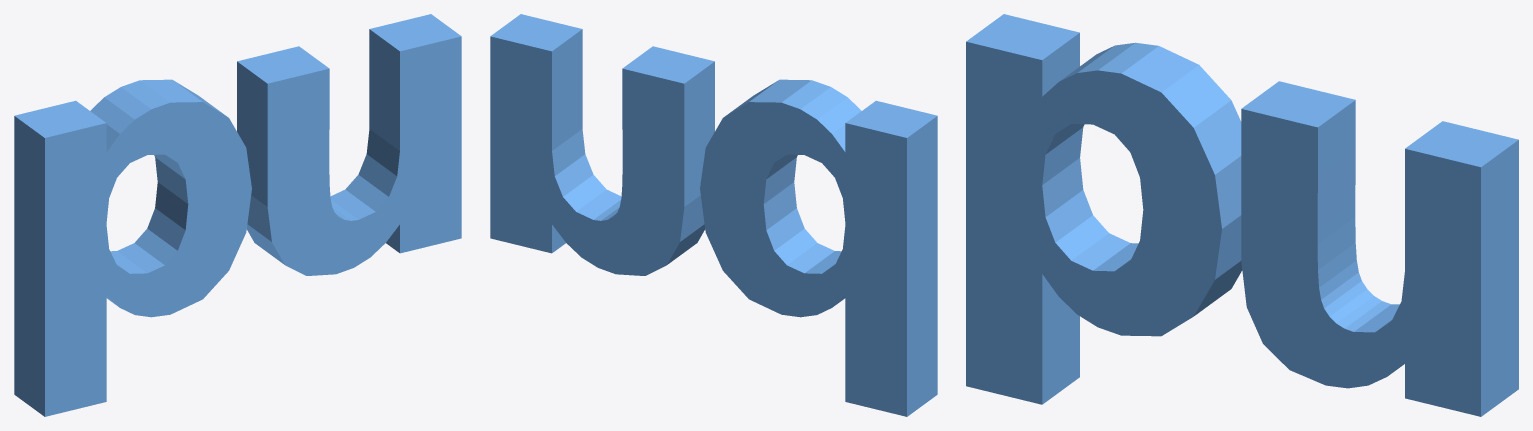
File: suku_kecil_pu.glb
The picture shows the model from 3 angles, left to right: view 1: azimuth 30°, elevation 25°; view 2: azimuth 150°, elevation 25°; view 3: azimuth 330°, elevation 25°; orthographic projection. The views are drawn at different scales.
Visible parts, largest first — view 1: geometry_0; view 2: geometry_0; view 3: geometry_0.
Boxes of the visible parts, left/top/right/bottom form: geometry_0: left=14, top=14, right=461, bottom=416; geometry_0: left=490, top=14, right=937, bottom=416; geometry_0: left=966, top=14, right=1518, bottom=416.
Size of the model in its own units: 11.81 by 7.68 by 1.5.
